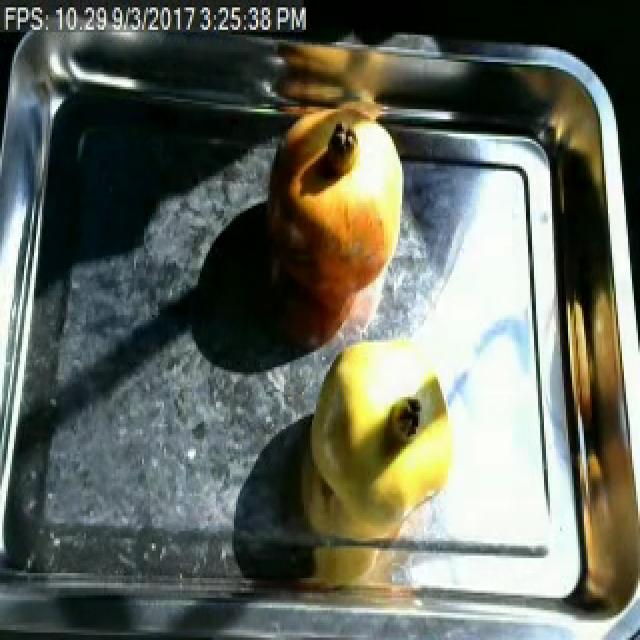fruit: (298, 325, 464, 531), (254, 97, 410, 315)
